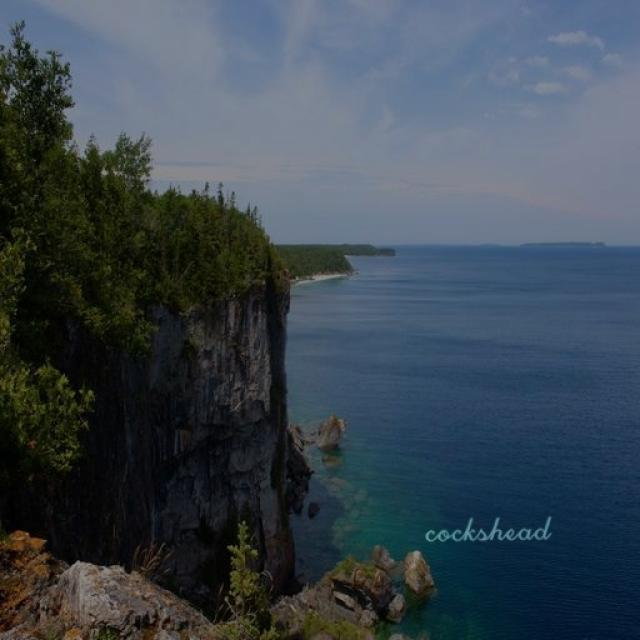watermark: (417, 514, 550, 546)
